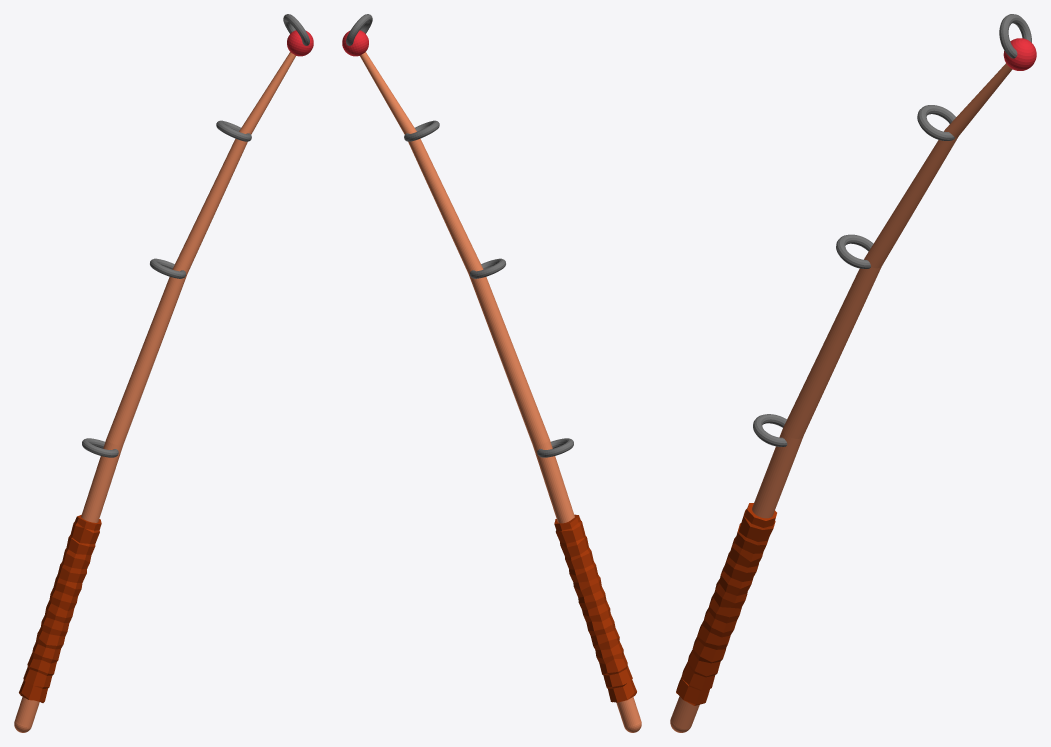
File: FishingRod.fbx
3 views of the same model, side by side, from view 1: azimuth 30°, elevation 25°; view 2: azimuth 150°, elevation 25°; view 3: azimuth 330°, elevation 25° (orthographic). The views are drawn at different scales.
Parts seen in each view (by area): view 1: Torus; view 2: Torus; view 3: Torus.
Boxes of the visible parts, x1,y1,x2,y2 form: Torus: (14, 14, 313, 732); Torus: (342, 14, 641, 732); Torus: (670, 14, 1036, 732).
Size of the model in its own units: 267 by 559 by 30.03.
